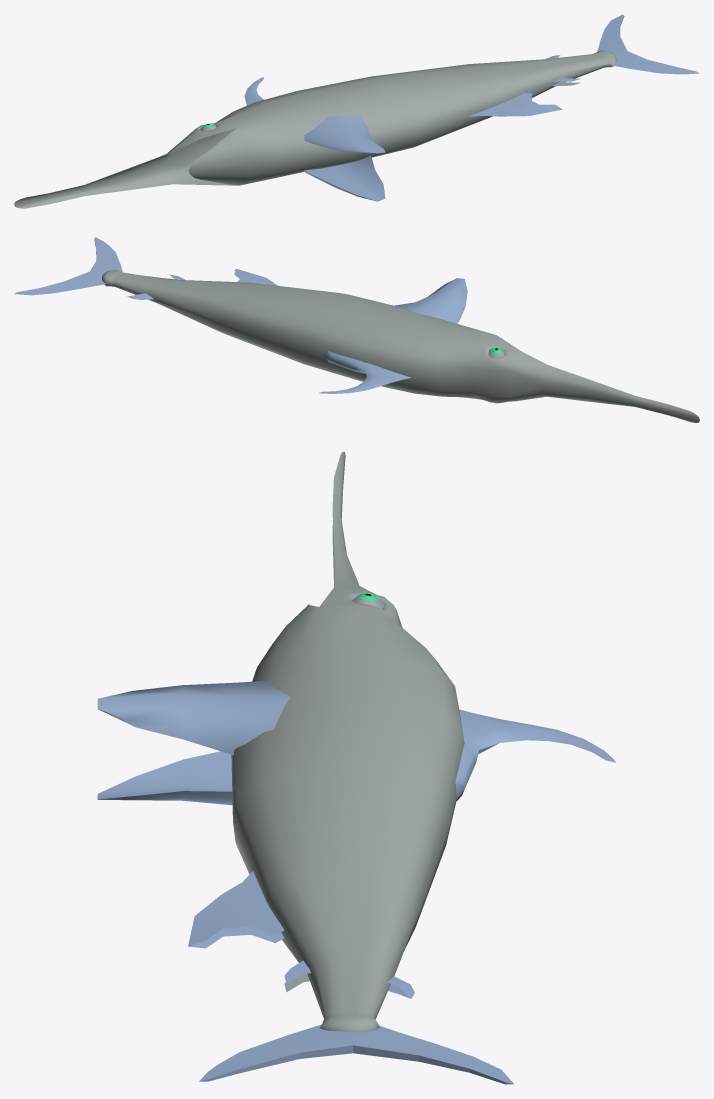
Rendered from Pez espada.fbx.
3 views of the same model, one above another, from view 1: azimuth 30°, elevation 25°; view 2: azimuth 150°, elevation 25°; view 3: azimuth 270°, elevation 25° (orthographic). The views are drawn at different scales.
Visible parts, largest first — view 1: Pez espada; view 2: Pez espada; view 3: Pez espada.
Part boxes in pixels (<box>): Pez espada: <box>14,14,699,208</box>; Pez espada: <box>14,237,699,422</box>; Pez espada: <box>97,451,615,1084</box>.
Size of the model in its own units: 73.55 by 6.28 by 25.65.
